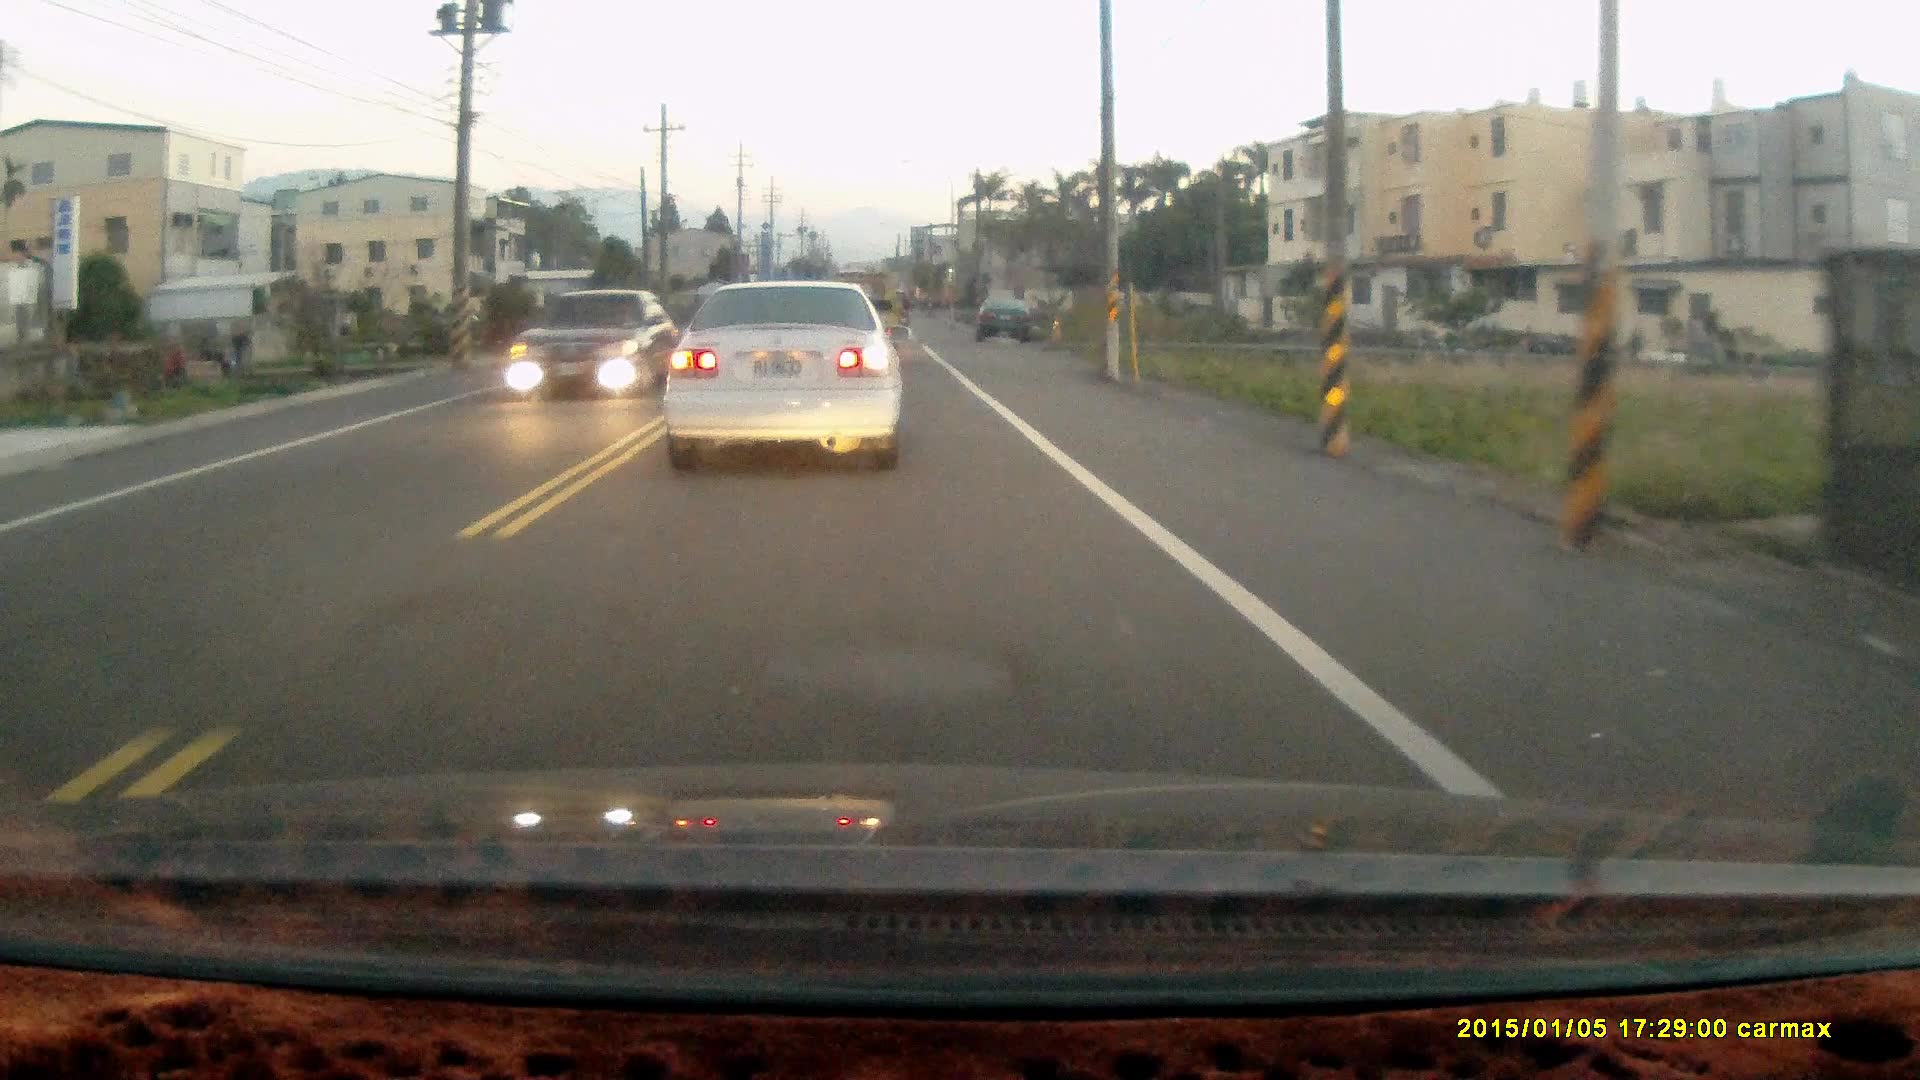pedestrian: (162, 350, 186, 397), (230, 322, 250, 371)
vehicle: (663, 277, 907, 478), (510, 291, 681, 396), (977, 299, 1042, 348)
